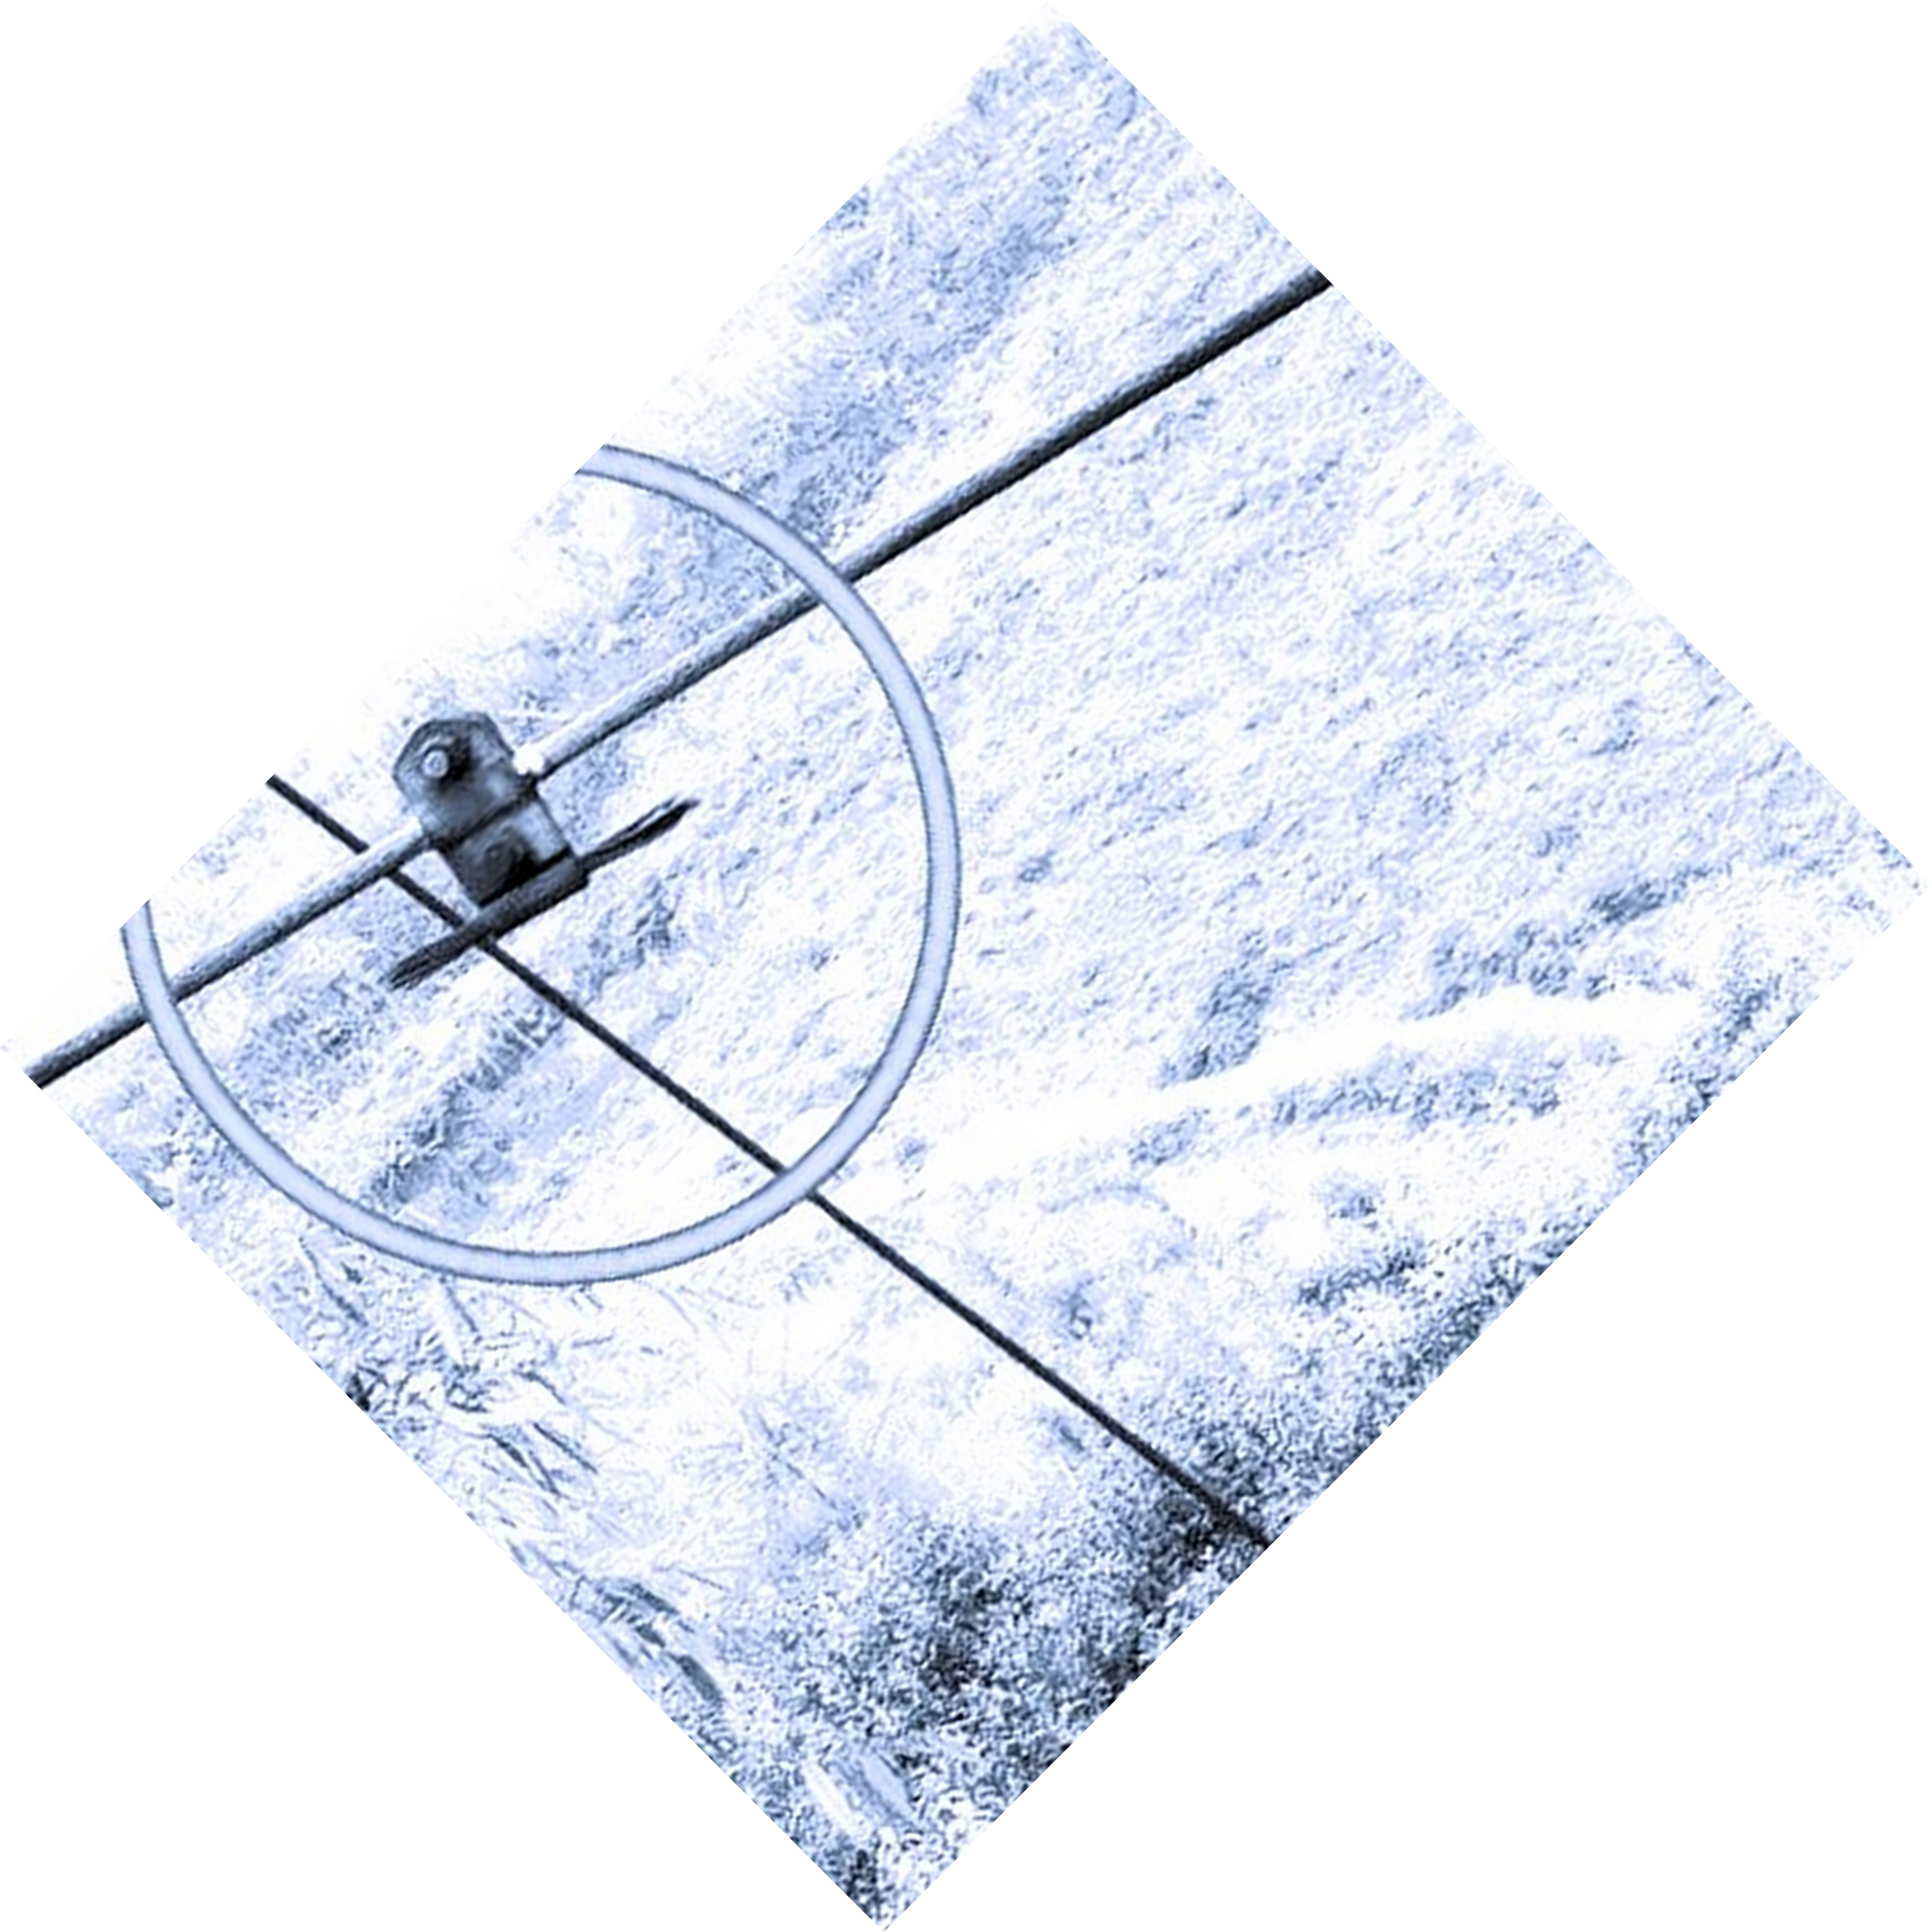Damage of shockproof hammer: (315, 679, 722, 1017)
